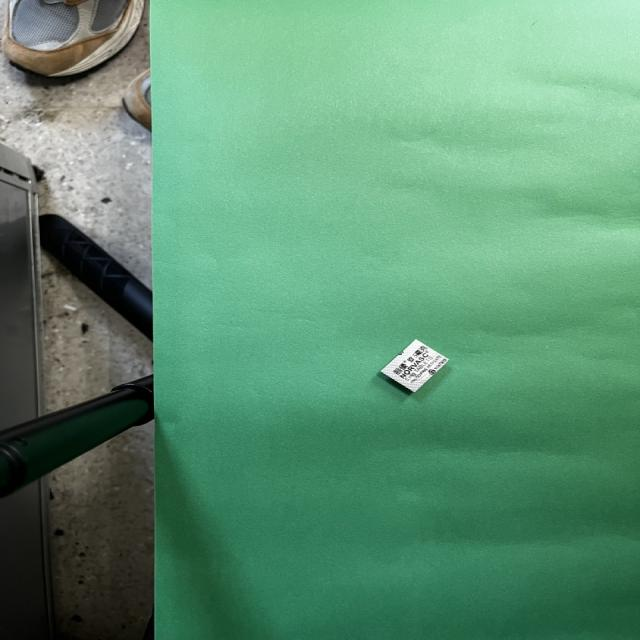Other Objects: (380, 340, 448, 392)
